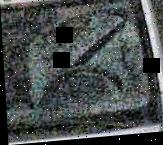seatbelt: (62, 20, 127, 72)
